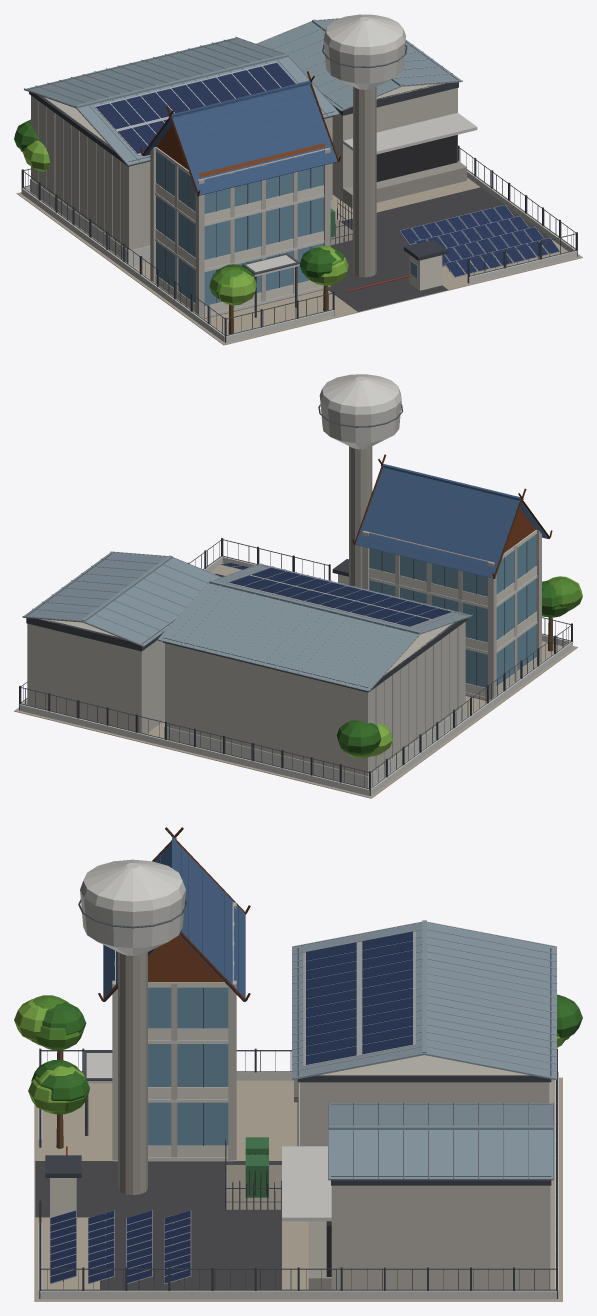
File: factory_4.glb
The picture shows the model from 3 angles, top to bottom: view 1: azimuth 30°, elevation 25°; view 2: azimuth 150°, elevation 25°; view 3: azimuth 270°, elevation 25°; orthographic projection. The views are drawn at different scales.
Parts seen in each view (by area): view 1: body; view 2: body; view 3: body.
Part boxes in pixels (left/top/right/bottom): body: left=14, top=14, right=582, bottom=345; body: left=14, top=374, right=582, bottom=798; body: left=14, top=827, right=582, bottom=1301.
Size of the model in its own units: 32.41 by 21.63 by 34.34.
